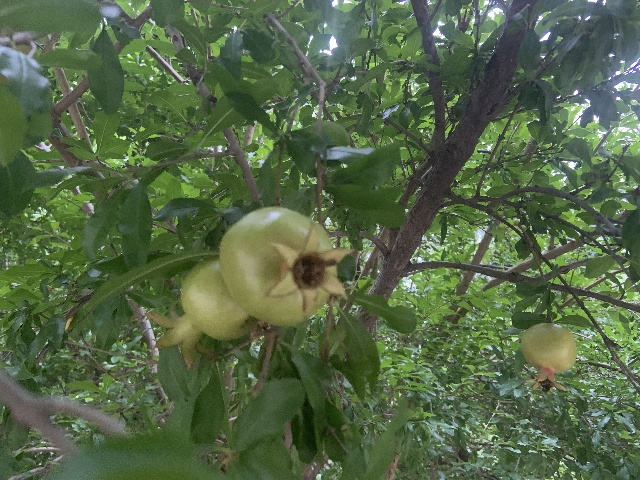mid-growth: (218, 206, 353, 323), (146, 257, 253, 369), (520, 323, 577, 392)
